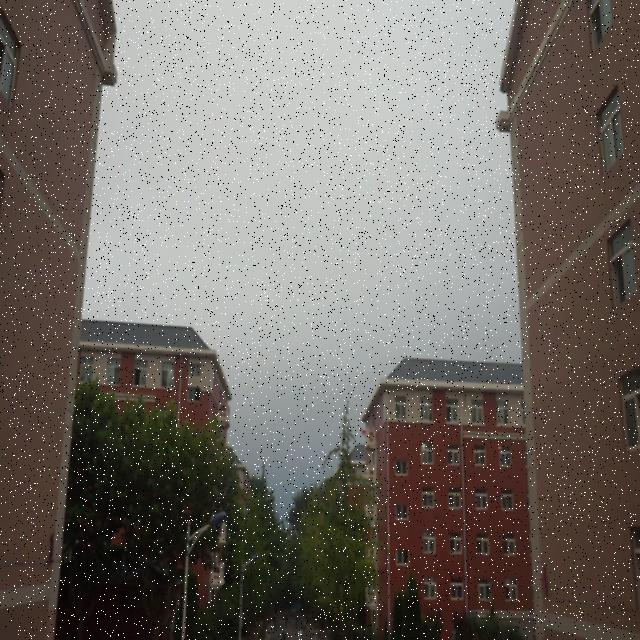UAV: (360, 427, 370, 436)
